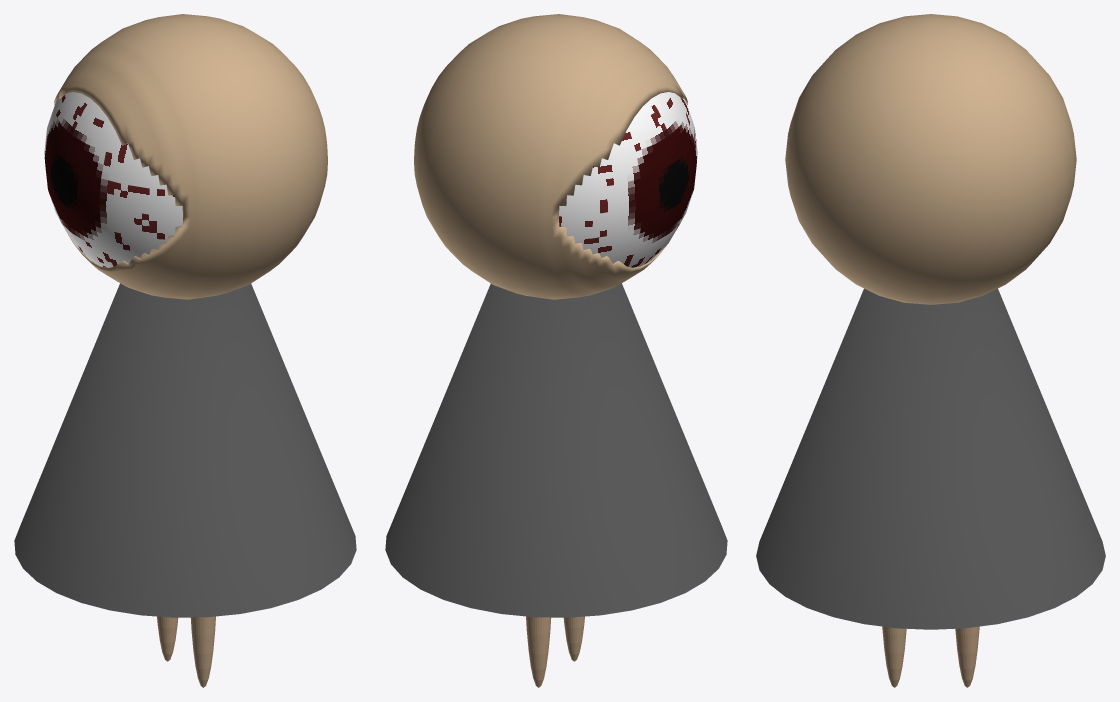
File: 眼Enemy.fbx
The picture shows the model from 3 angles, left to right: view 1: azimuth 30°, elevation 25°; view 2: azimuth 150°, elevation 25°; view 3: azimuth 270°, elevation 25°; orthographic projection.
Visible parts, largest first — view 1: 円錐, 球.001, 球, 球.003, 球.002; view 2: 円錐, 球.001, 球, 球.002, 球.003; view 3: 円錐, 球.001, 球.002, 球.003.
Boxes of the visible parts, x1,y1,x2,y2 form: 円錐: [14, 283, 356, 617]; 球.001: [54, 14, 327, 299]; 球: [44, 92, 182, 267]; 球.003: [190, 616, 215, 687]; 球.002: [157, 616, 178, 661]; 円錐: [385, 283, 727, 617]; 球.001: [414, 14, 687, 299]; 球: [559, 92, 697, 267]; 球.002: [526, 616, 551, 687]; 球.003: [563, 616, 584, 661]; 円錐: [756, 288, 1105, 629]; 球.001: [785, 14, 1076, 304]; 球.002: [955, 626, 979, 687]; 球.003: [882, 626, 906, 687].
Bounding box in the file's own units: 2.4 × 5 × 2.4.
